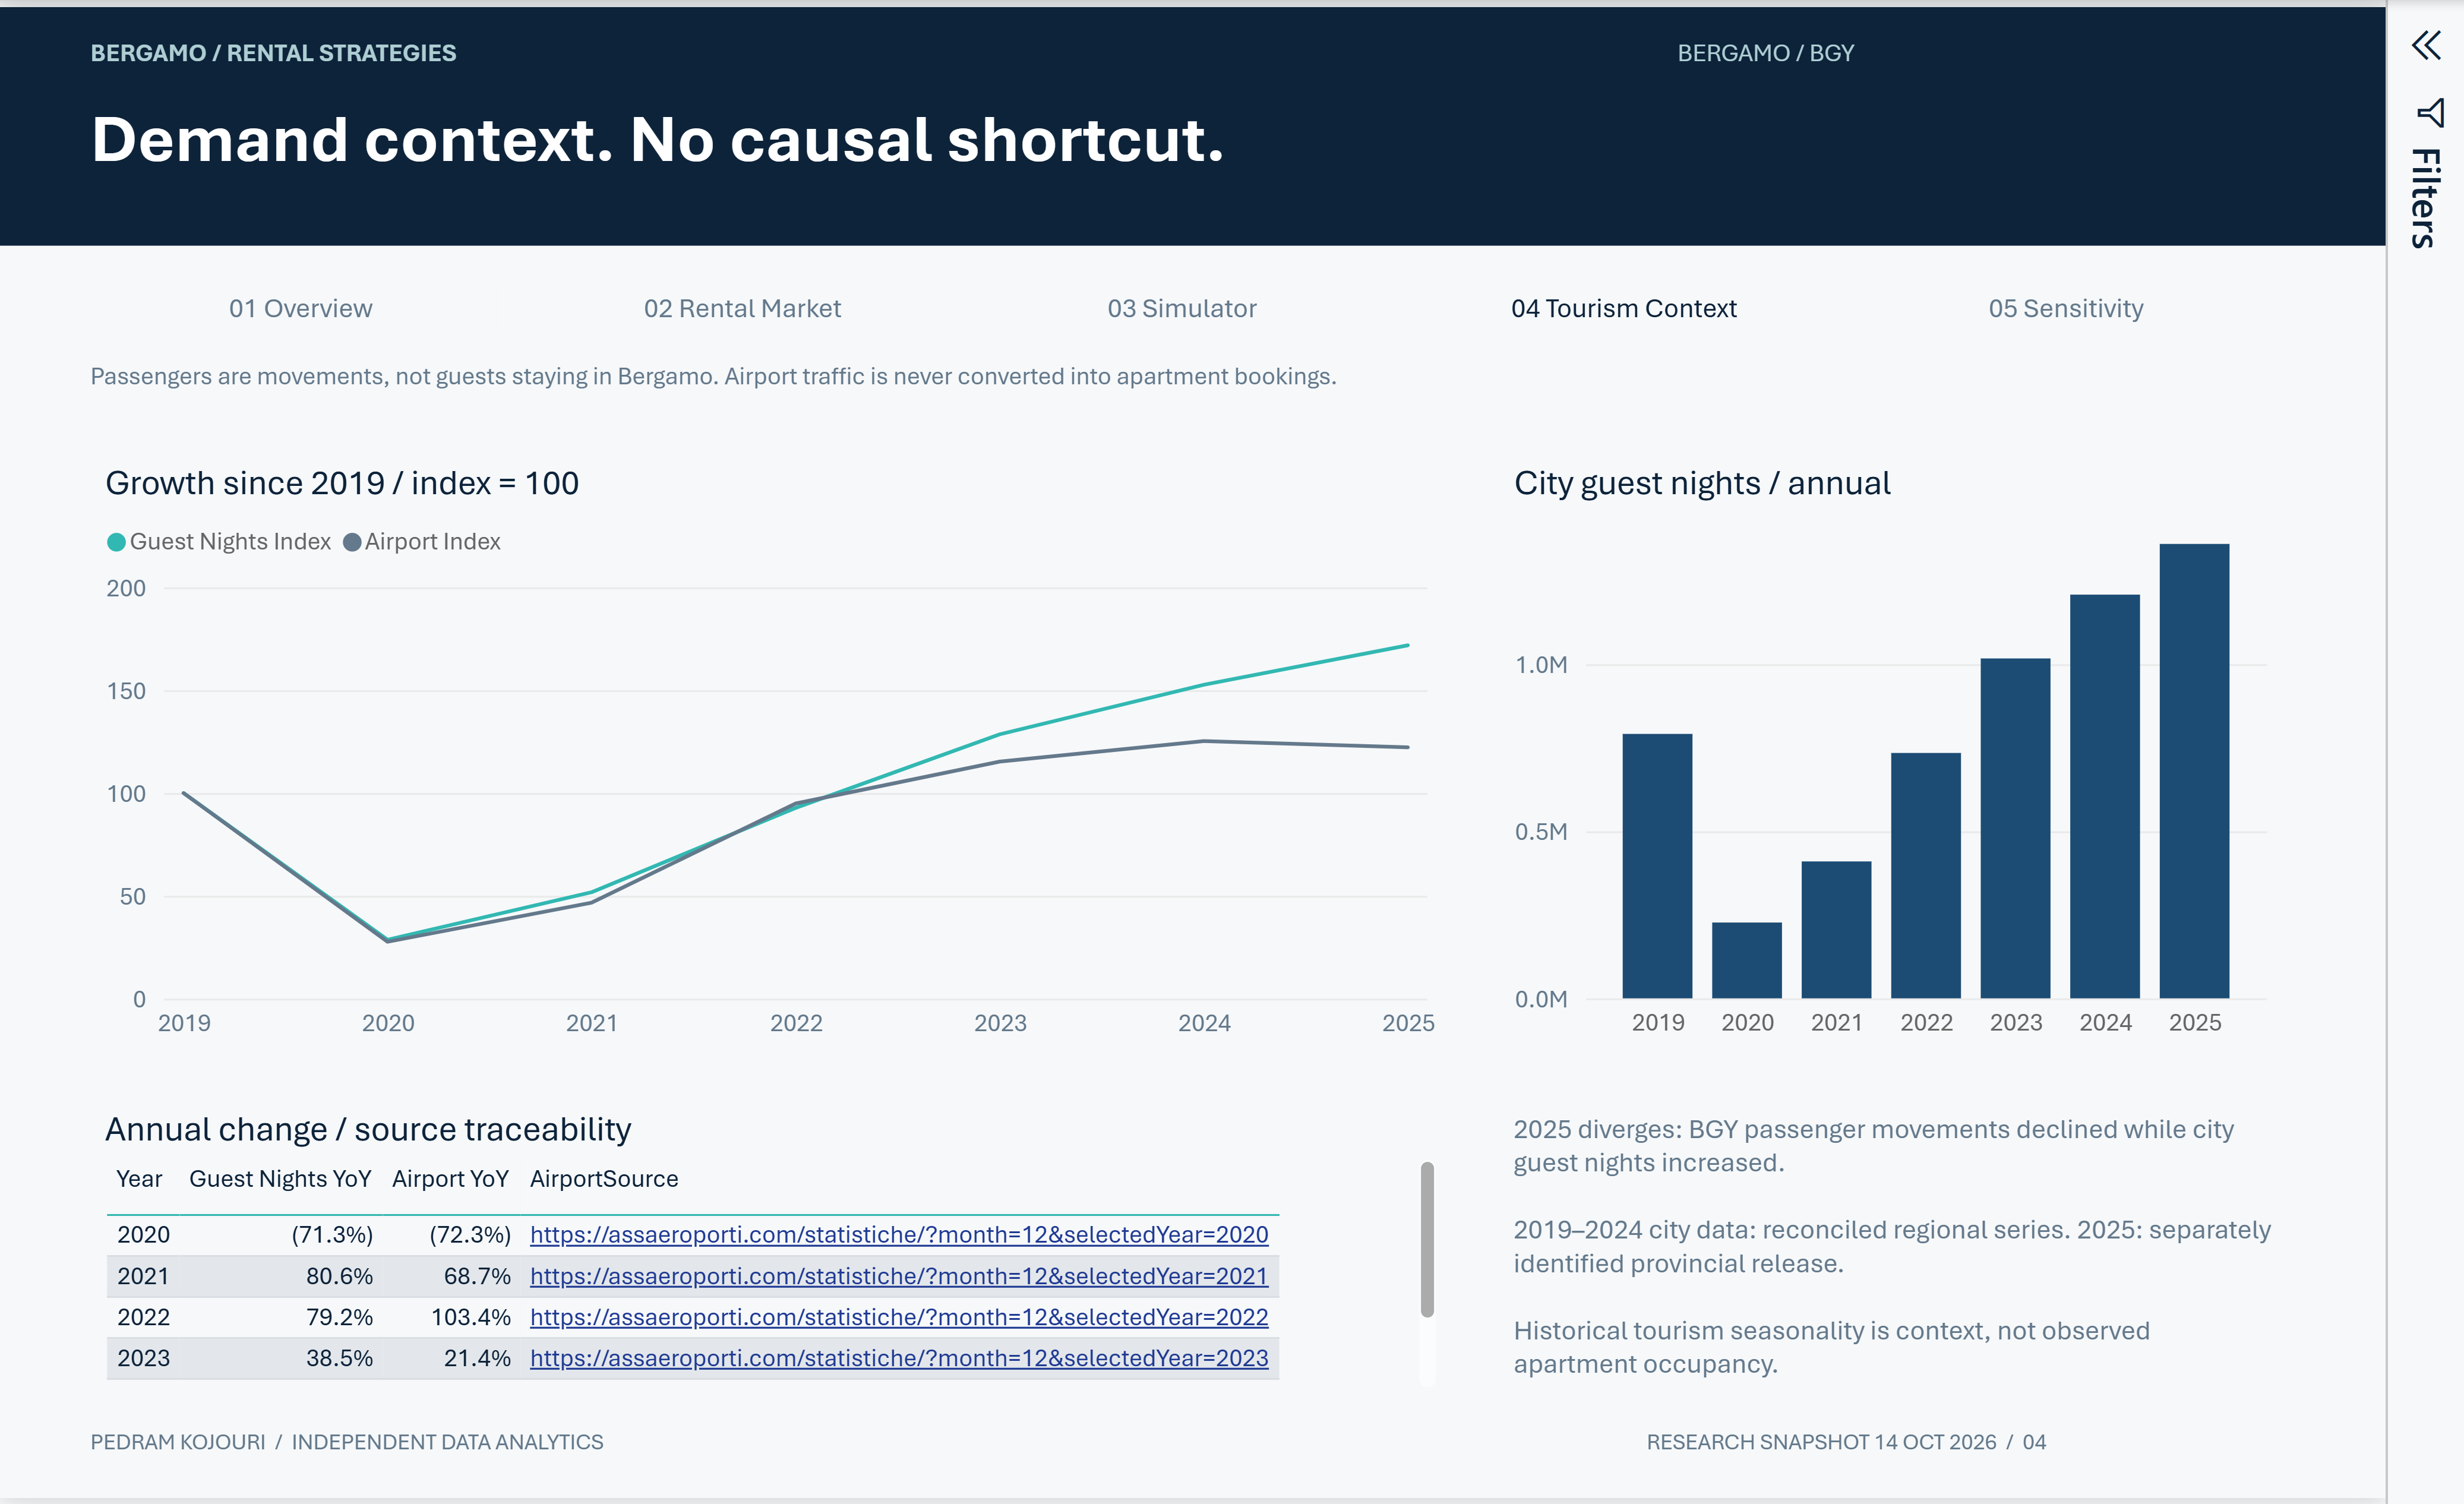

The dashboard page shown, as its layout file describes it:
{"tool":"powerbi","page":{"name":"Tourism Context","canvas":[1280,800],"ordinal":3},"visuals":[{"type":"textbox","box":[0,0,1280,128],"z":98},{"type":"textbox","box":[48,16,690,24],"z":99},{"type":"textbox","box":[900,16,332,24],"z":100},{"type":"textbox","box":[48,49,1150,60],"z":101},{"type":"actionButton","box":[48,140,226,42],"z":102},{"type":"actionButton","box":[285,140,226,42],"z":103},{"type":"actionButton","box":[522,140,226,42],"z":104},{"type":"actionButton","box":[759,140,226,42],"z":105},{"type":"actionButton","box":[996,140,226,42],"z":106},{"type":"textbox","box":[48,190,1184,36],"z":107},{"type":"textbox","box":[48,762,650,24],"z":108},{"type":"textbox","box":[884,762,350,24],"z":109},{"type":"lineChart","title":"Growth since 2019 / index = 100","fields":{"Category":["Tourism.Year"],"Y":["Metrics.Guest Nights Index","Metrics.Airport Index"]},"box":[48,236,730,330],"z":110},{"type":"columnChart","title":"City guest nights / annual","fields":{"Category":["Tourism.Year"],"Y":["Metrics.Guest Nights"]},"box":[804,236,420,330],"z":111},{"type":"tableEx","title":"Annual change / source traceability","fields":{"Values":["Tourism.Year","Metrics.Guest Nights YoY","Metrics.Airport YoY","Tourism.AirportSource"]},"box":[48,582,730,166],"z":112},{"type":"textbox","box":[812,593,408,158],"z":113}]}

Visuals, with their boxes in screenshot pixels (x1, y1, x2, y2), scaled from the page's 1280x800 canvas onto the 2464x1504 screenshot:
textbox: (0, 0, 2463, 241)
textbox: (93, 30, 1421, 75)
textbox: (1733, 30, 2371, 75)
textbox: (93, 92, 2306, 205)
actionButton: (93, 263, 527, 342)
actionButton: (549, 263, 984, 342)
actionButton: (1005, 263, 1440, 342)
actionButton: (1461, 263, 1896, 342)
actionButton: (1918, 263, 2352, 342)
textbox: (93, 357, 2371, 425)
textbox: (93, 1433, 1344, 1478)
textbox: (1702, 1433, 2375, 1478)
"Growth since 2019 / index = 100" lineChart: (93, 444, 1498, 1064)
"City guest nights / annual" columnChart: (1547, 444, 2356, 1064)
"Annual change / source traceability" tableEx: (93, 1094, 1498, 1406)
textbox: (1563, 1115, 2349, 1412)
